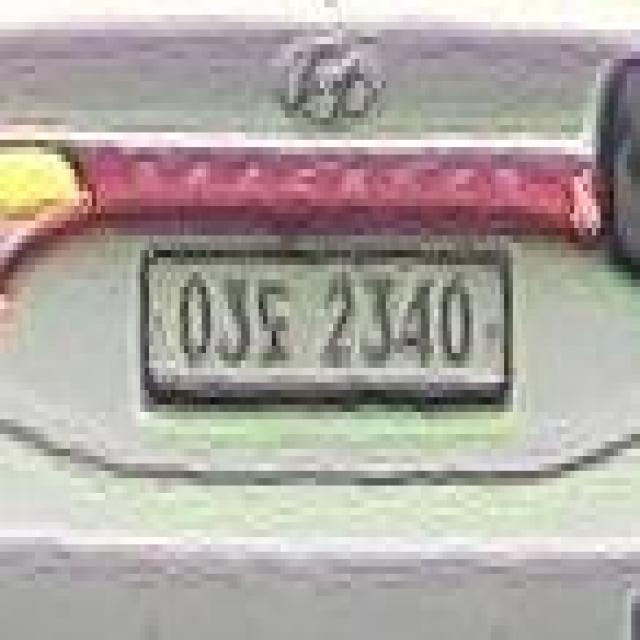illegal_plate: (135, 239, 518, 427)
